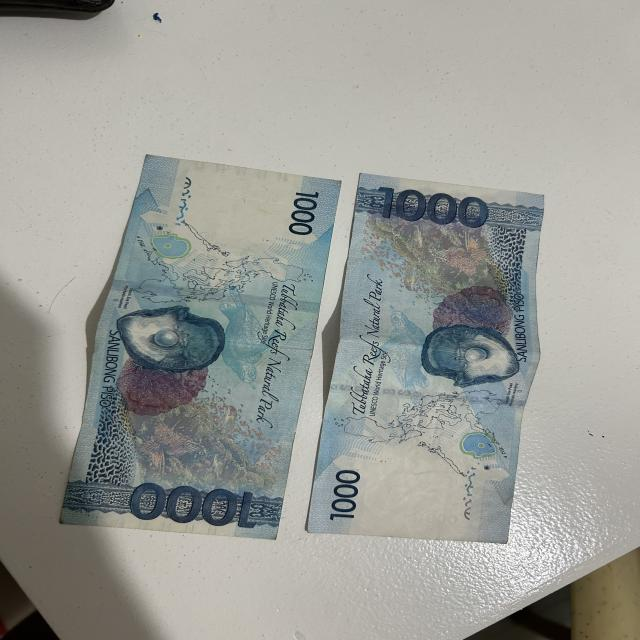1000_pearl: (422, 328, 521, 392), (114, 310, 226, 364)
1000_pearl_watermark: (149, 233, 192, 261), (460, 434, 498, 460)
watermark: (195, 183, 338, 264), (359, 443, 480, 535)
